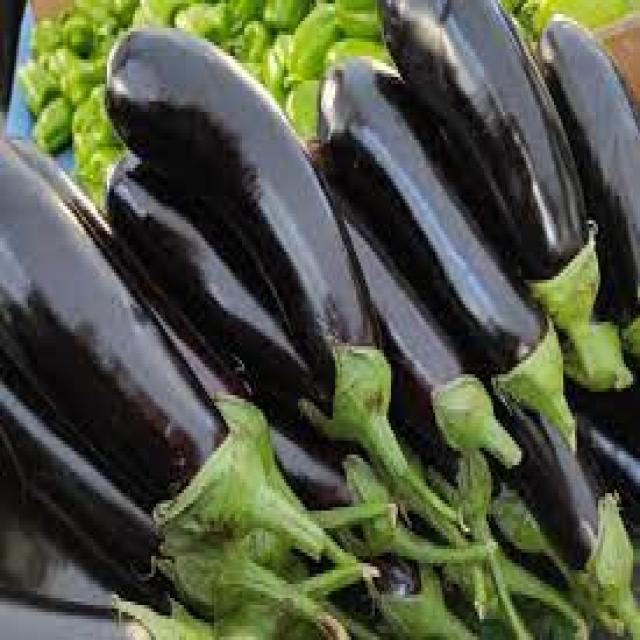eggplant: (105, 28, 382, 427), (0, 154, 226, 507), (314, 52, 554, 384)
